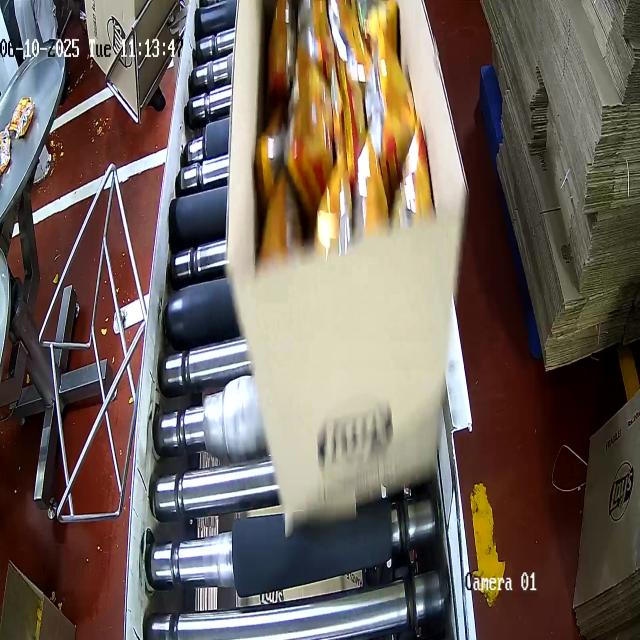FRENCH_CHEESE: (255, 0, 433, 263)
